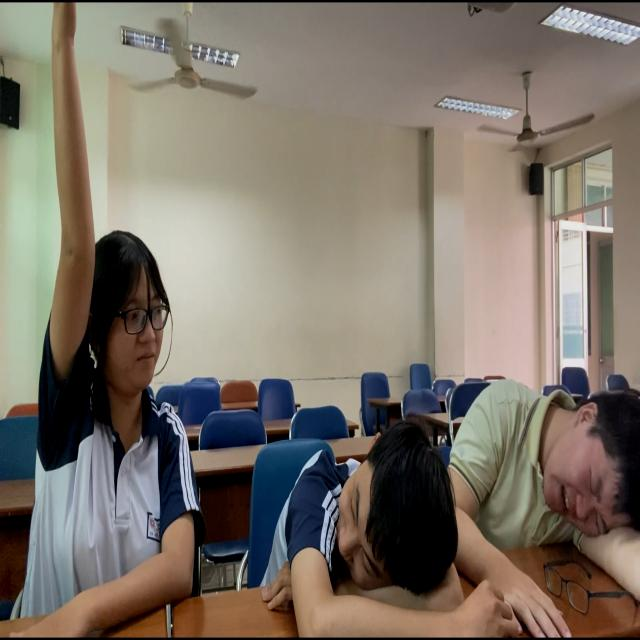raise_hand: (38, 1, 201, 640)
sleep: (265, 394, 459, 636), (456, 377, 640, 606)
